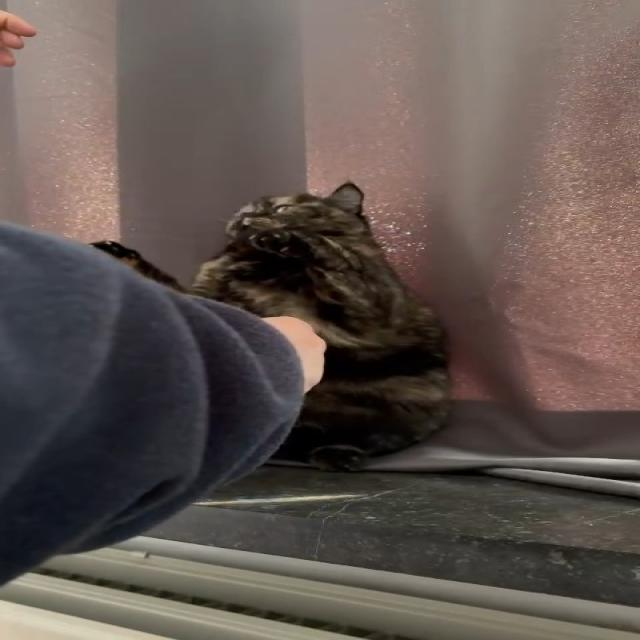authorized: (85, 180, 455, 472)
